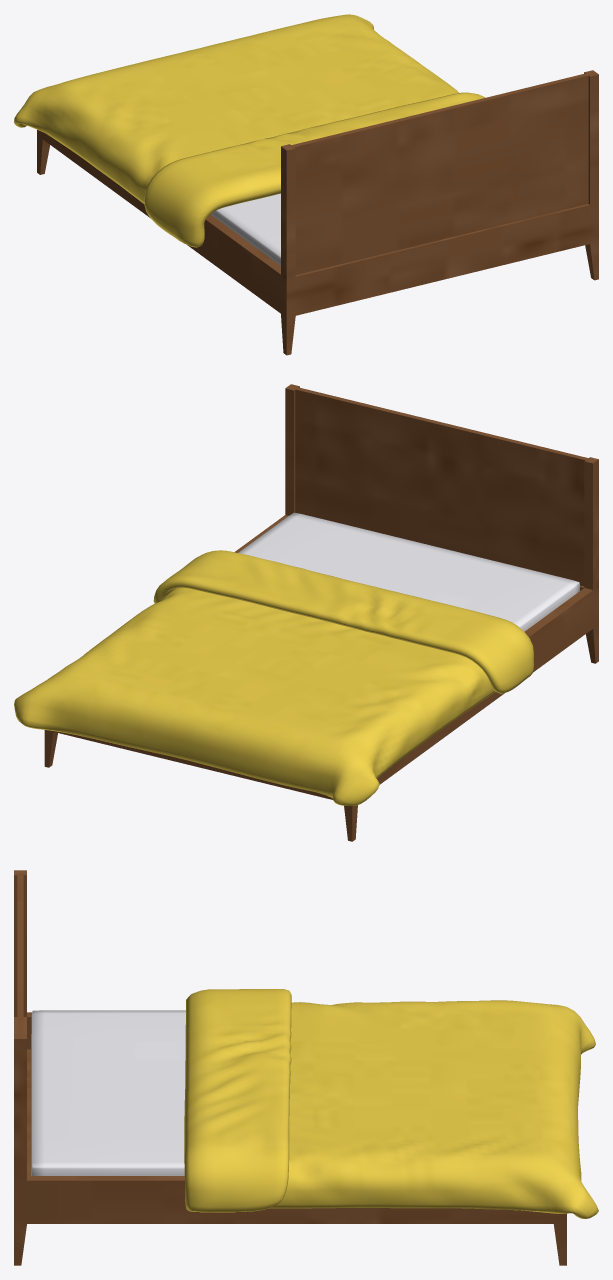
Rendered from Bed06.glb.
3 renders of one model, top to bottom at view 1: azimuth 30°, elevation 25°; view 2: azimuth 150°, elevation 25°; view 3: azimuth 270°, elevation 25°, orthographic. The views are drawn at different scales.
Visible parts, largest first — view 1: BedFrame06, Blanket06, Mattress06; view 2: Blanket06, BedFrame06, Mattress06; view 3: Blanket06, Mattress06, BedFrame06.
Part boxes in pixels (box(x1,y1,x2,y2)): BedFrame06: box(37, 70, 598, 355); Blanket06: box(14, 14, 485, 247); Mattress06: box(211, 193, 280, 265); Blanket06: box(14, 550, 533, 805); BedFrame06: box(44, 384, 598, 841); Mattress06: box(238, 512, 579, 631); Blanket06: box(184, 989, 598, 1218); Mattress06: box(31, 1010, 185, 1175); BedFrame06: box(14, 870, 566, 1265).
Bounding box in the file's own units: 4.14 × 2.23 × 5.22.
3 materials, 3 textured.
